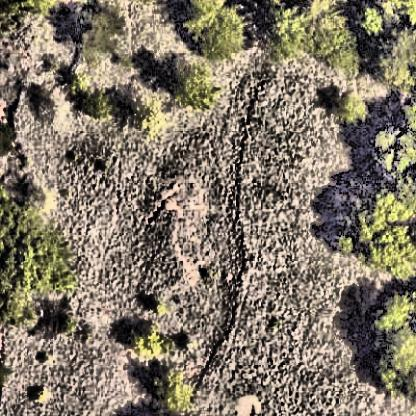tree-top: (1, 195, 87, 294), (337, 192, 416, 276), (362, 289, 416, 399), (175, 3, 244, 59), (312, 1, 364, 75), (256, 4, 308, 66), (369, 28, 416, 93), (167, 58, 223, 109), (57, 6, 119, 52), (368, 125, 416, 183), (149, 371, 200, 415), (121, 94, 168, 135), (331, 88, 370, 133), (126, 328, 176, 358), (81, 90, 117, 118)
